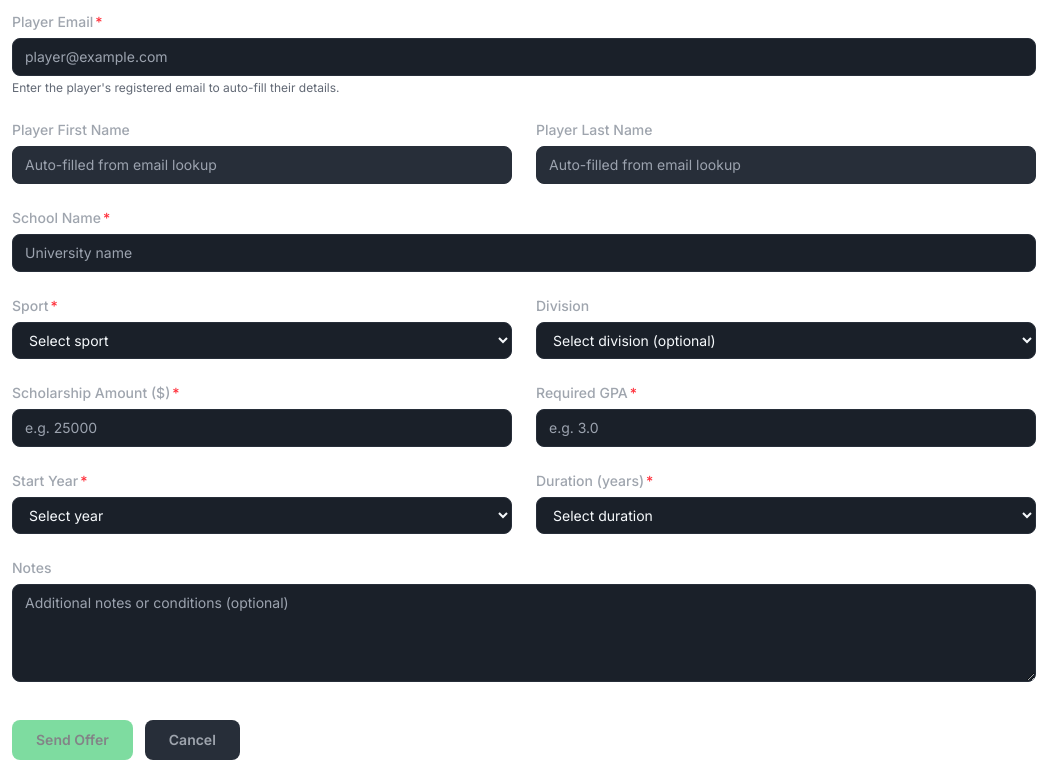
Test: ScholarshipForm — email lookup › auto-fills first and last name after successful lookup
Type "alex@example.com" into the field labelled "Player Email*" at (524, 57), box [12,38,1036,76]
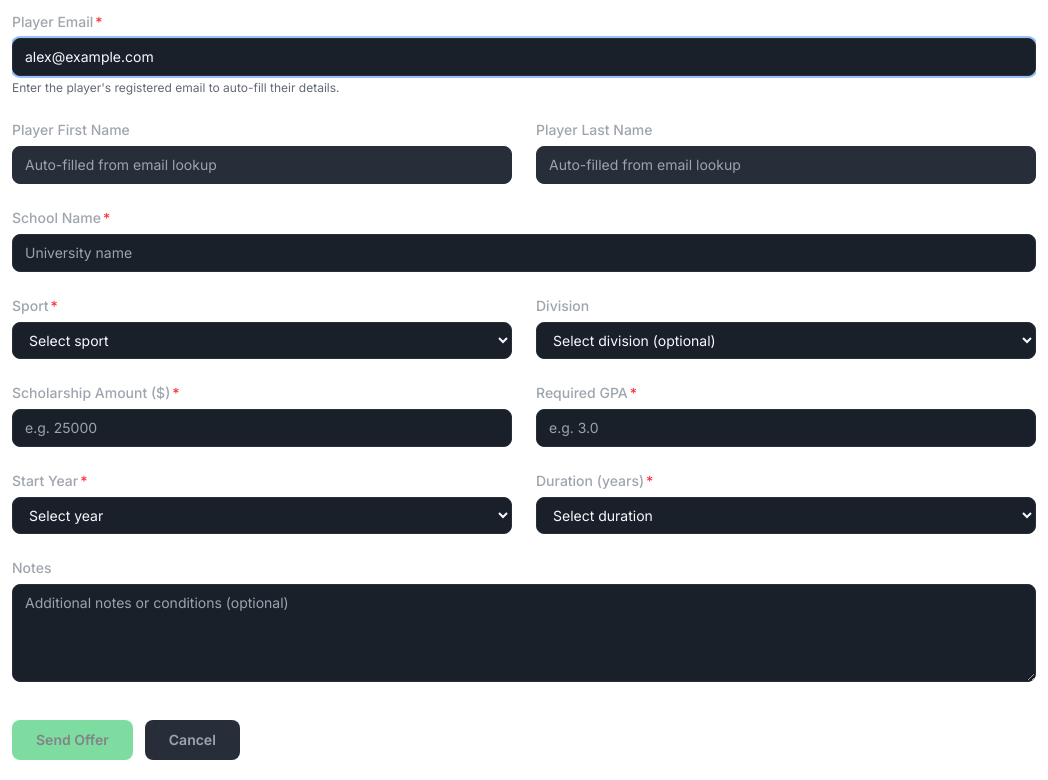
Press Tab
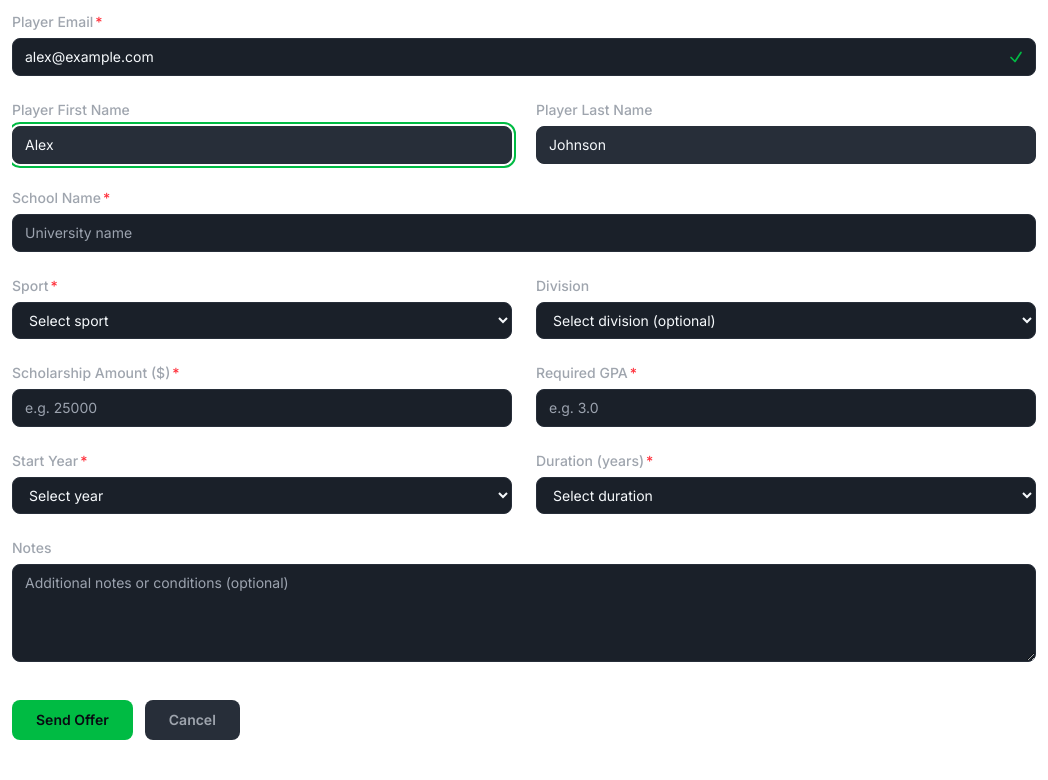
Expected: the field labelled "Player First Name" holds "Alex", [12,126,512,164]
Expected: the field labelled "Player Last Name" holds "Johnson", [536,126,1036,164]
